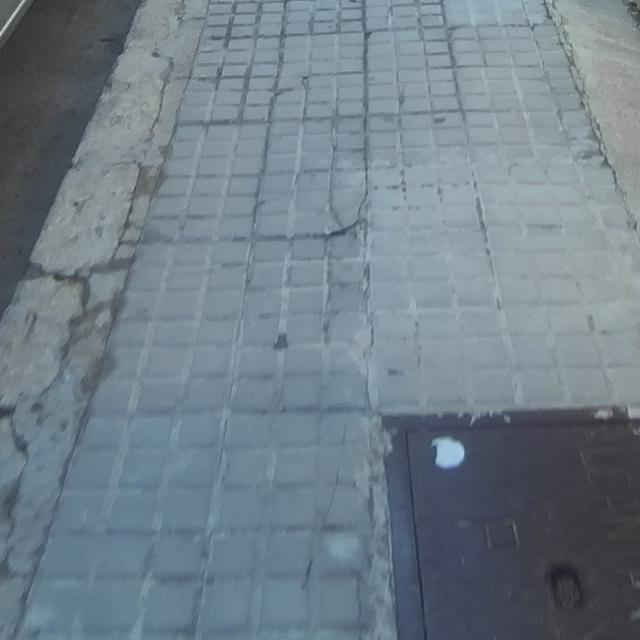calcada_quebrada: (555, 105, 618, 170), (321, 176, 372, 243), (540, 0, 581, 57), (554, 57, 593, 105), (268, 72, 311, 100)
